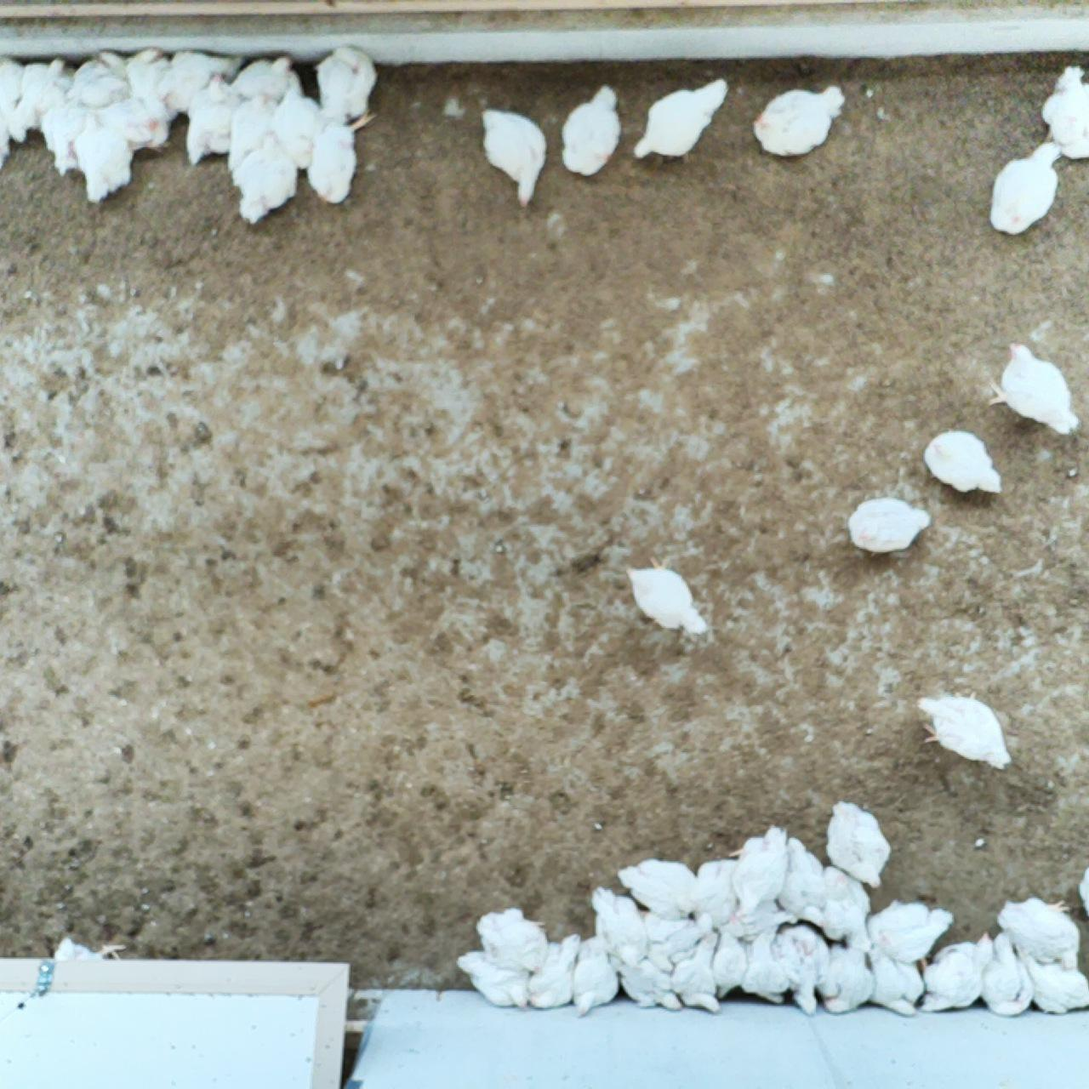chicken: (986, 334, 1082, 442), (981, 135, 1070, 237), (632, 74, 735, 161), (914, 689, 1017, 772), (473, 104, 552, 210), (748, 80, 847, 164), (621, 553, 712, 642), (305, 105, 379, 209), (227, 125, 302, 227), (68, 110, 143, 208), (864, 893, 955, 972), (821, 795, 895, 891), (557, 82, 627, 182), (918, 422, 1010, 498), (996, 888, 1082, 966), (919, 930, 996, 1016), (732, 820, 793, 921), (844, 493, 933, 561), (5, 57, 74, 143), (154, 44, 239, 112), (772, 922, 831, 1018), (612, 855, 698, 920), (182, 70, 239, 168), (815, 861, 876, 951), (313, 40, 377, 125), (589, 882, 651, 969), (1037, 60, 1089, 163), (862, 941, 927, 1020), (455, 947, 534, 1012), (773, 834, 828, 927), (474, 905, 551, 971), (812, 940, 877, 1018), (978, 931, 1036, 1018), (273, 78, 326, 173), (1020, 948, 1089, 1016), (566, 933, 621, 1017), (226, 88, 276, 178), (526, 930, 582, 1010), (672, 928, 724, 1013), (37, 90, 88, 174), (638, 918, 705, 978), (229, 51, 299, 108), (615, 957, 685, 1013), (739, 929, 789, 1002), (102, 99, 172, 150), (66, 50, 129, 104), (693, 853, 738, 922), (121, 43, 167, 102), (710, 928, 745, 1002), (720, 904, 794, 935), (0, 52, 26, 105)
